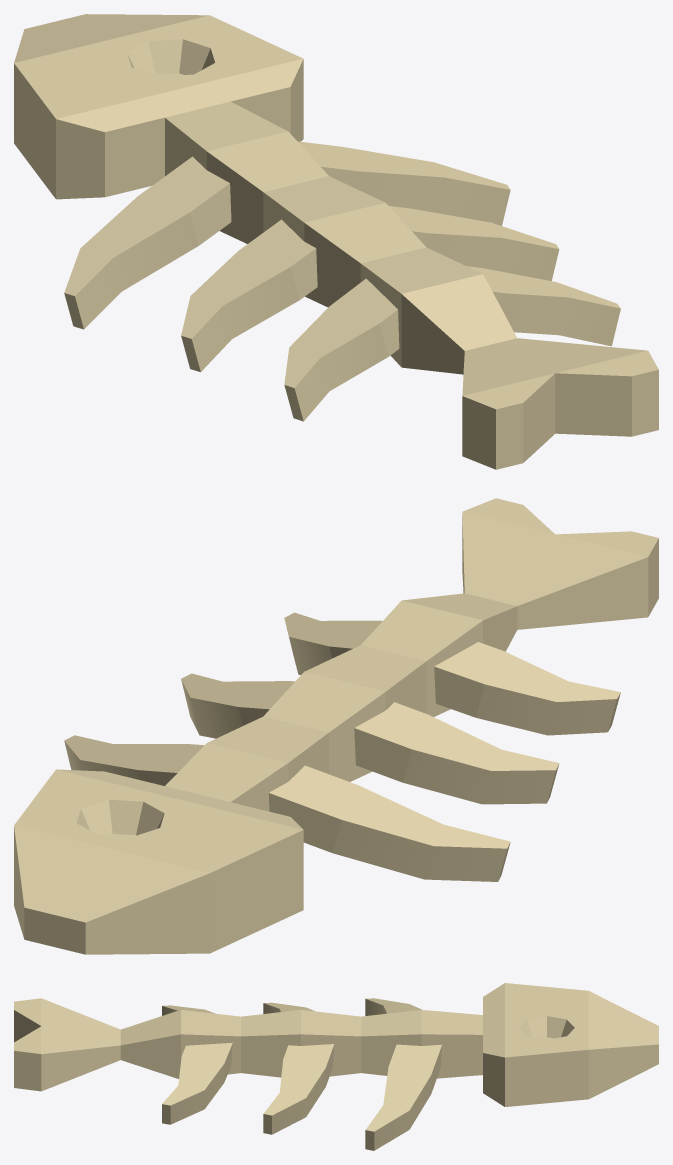
The model's file is fish_frame.glb.
3 views of the same model, one above another, from view 1: azimuth 30°, elevation 25°; view 2: azimuth 150°, elevation 25°; view 3: azimuth 270°, elevation 25° (orthographic). The views are drawn at different scales.
Visible parts, largest first — view 1: fish_frame; view 2: fish_frame; view 3: fish_frame.
Boxes of the visible parts, x1=… form: fish_frame: x1=14, y1=14, x2=658, y2=469; fish_frame: x1=14, y1=498, x2=658, y2=954; fish_frame: x1=14, y1=983, x2=658, y2=1150.
Size of the model in its own units: 0.3113 by 0.0726 by 0.6358.
